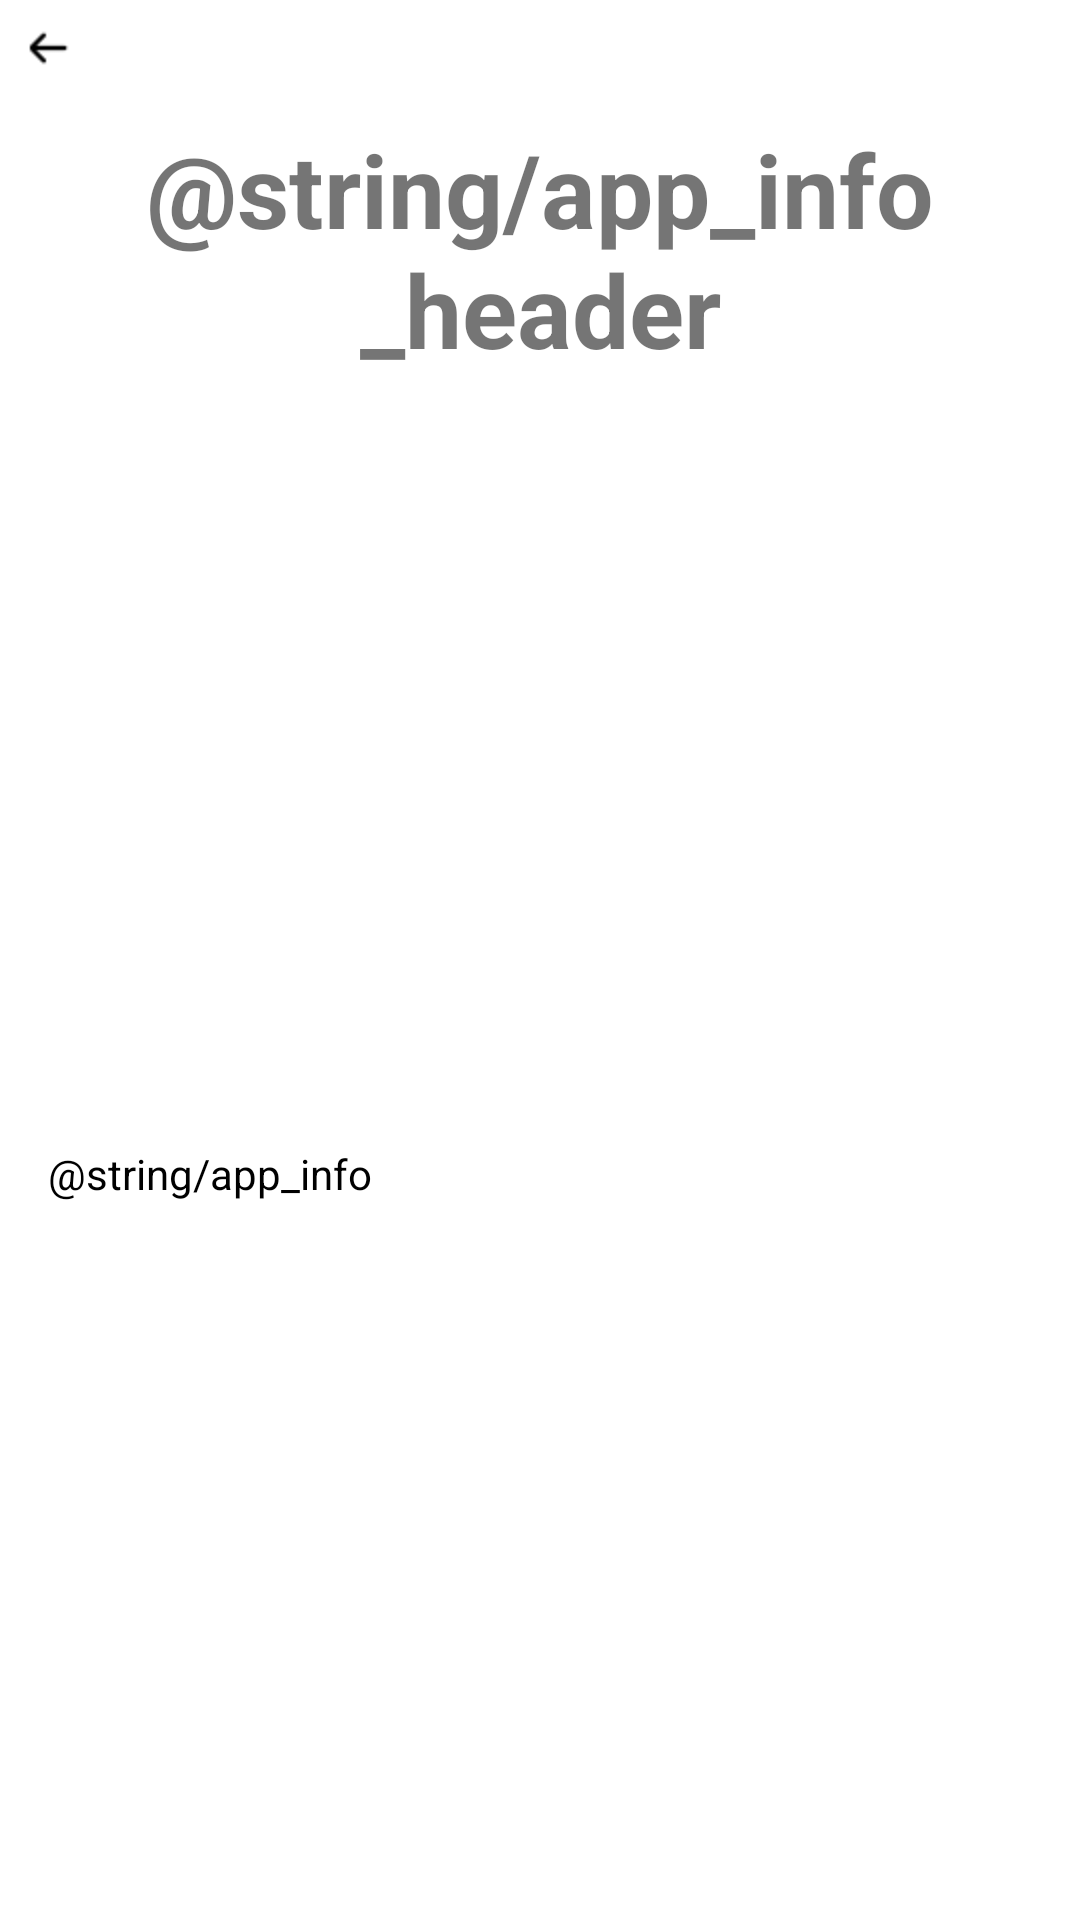

Where to tap for icons on this 1080 × 1920 app screen, as [x,y]:
back: [48,48]
